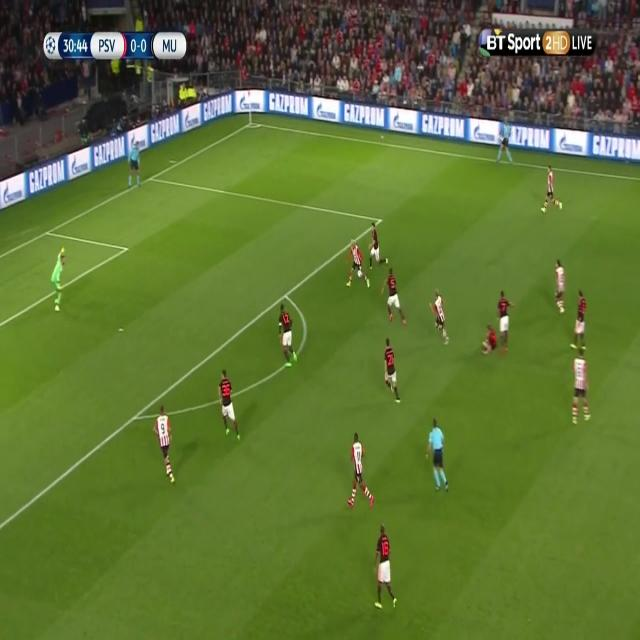Ball: (356, 267, 364, 280)
Goalkeeper: (50, 246, 68, 315)
Player: (371, 520, 398, 615), (346, 432, 377, 509), (379, 262, 411, 331), (216, 368, 244, 445), (152, 401, 177, 487), (568, 347, 592, 428), (427, 287, 451, 351), (277, 302, 299, 370), (539, 163, 566, 218), (344, 238, 372, 290), (382, 336, 402, 408), (497, 286, 515, 360), (571, 287, 589, 355), (368, 220, 391, 273), (553, 256, 568, 319), (481, 320, 499, 359)
Referee: (424, 416, 452, 496), (494, 116, 516, 169), (126, 138, 142, 192)
